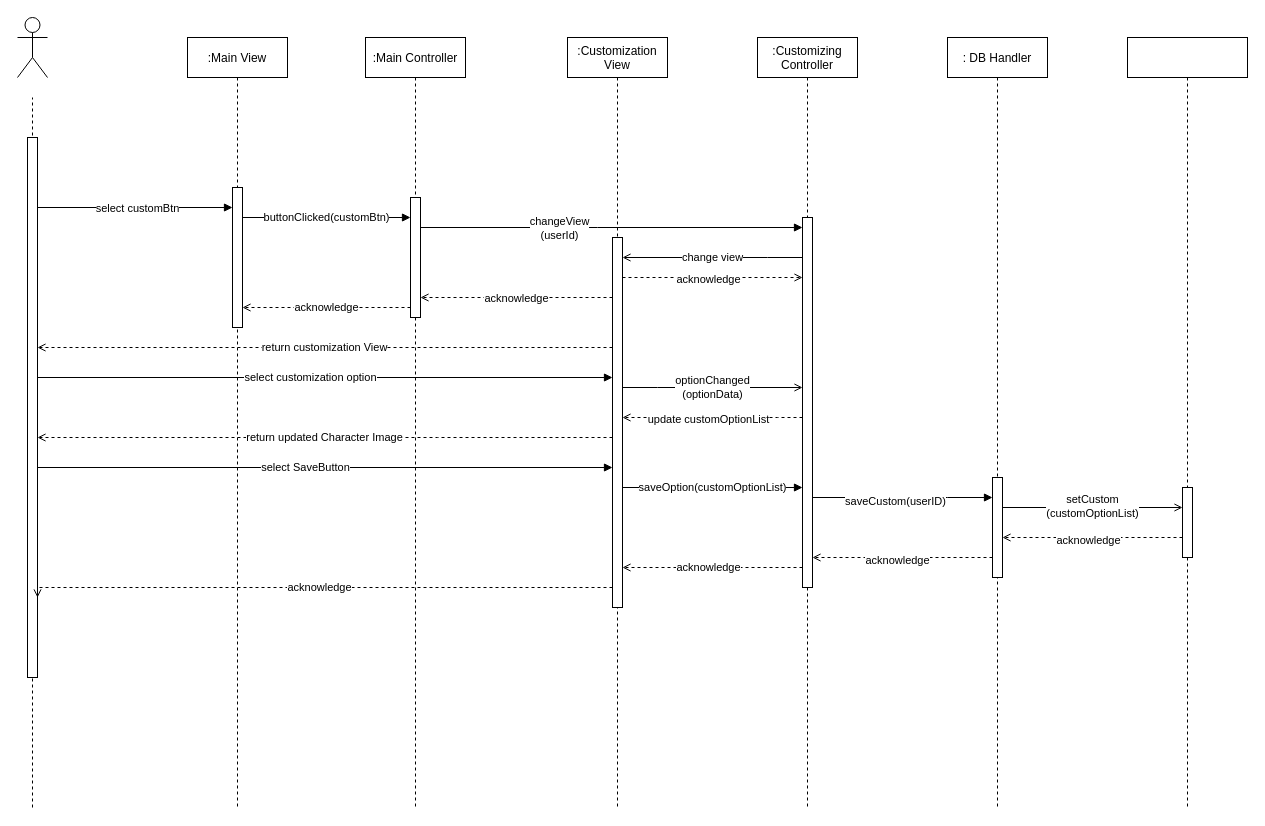
Some shapes in this 1265 by 826 pixel diagram are drawn without their labels. Here are the shapes that lost their labels. From the top down, the box of each, then its label:
(16, 16, 48, 78): User
(1126, 36, 1248, 808): :Character Customization Data
